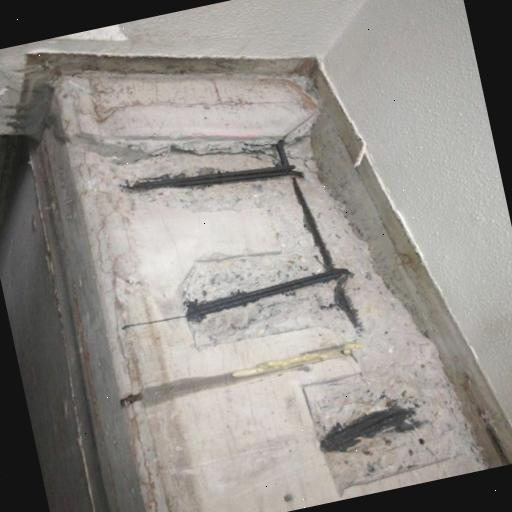spalling: (105, 142, 474, 490)
